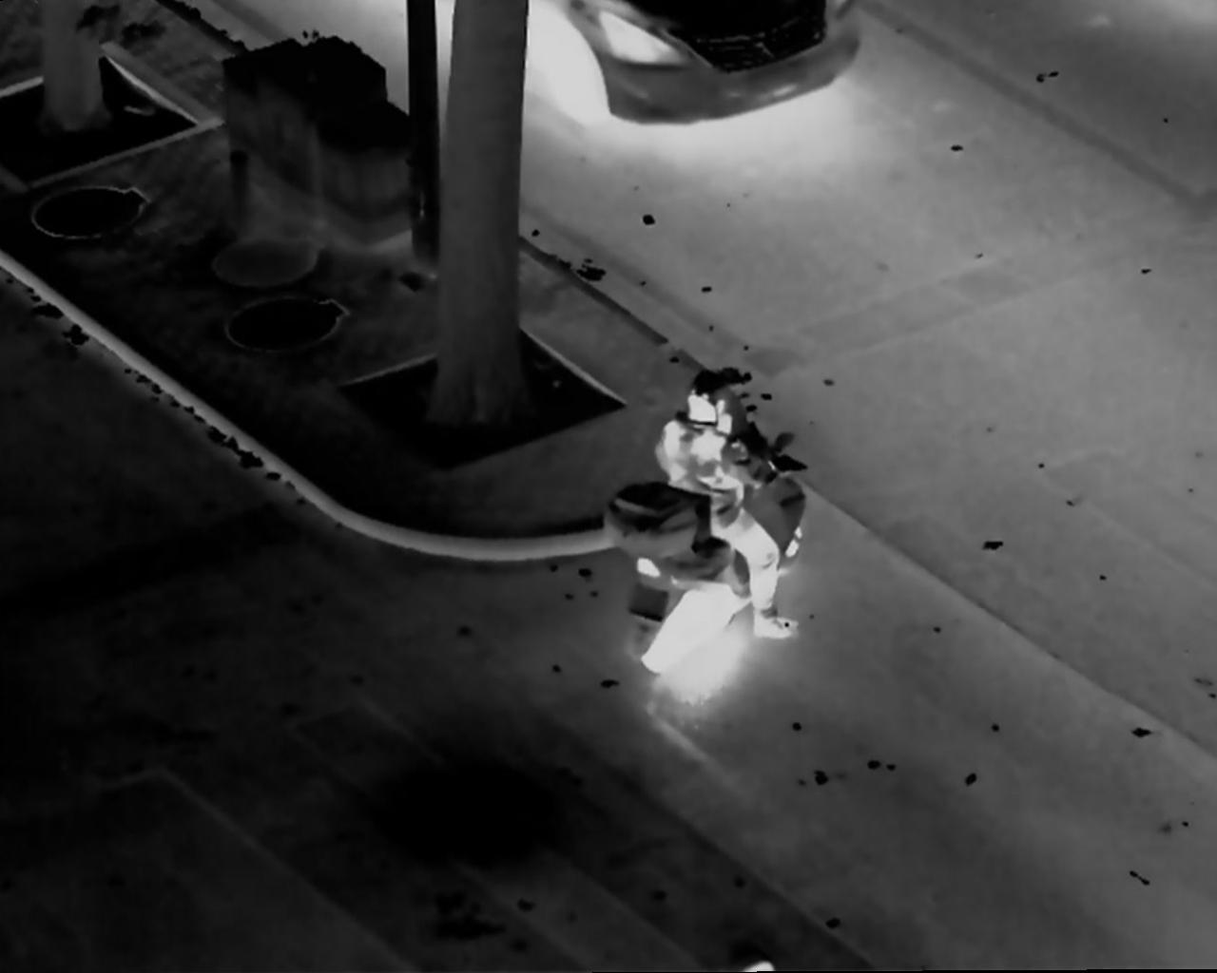person: (652, 369, 801, 649)
